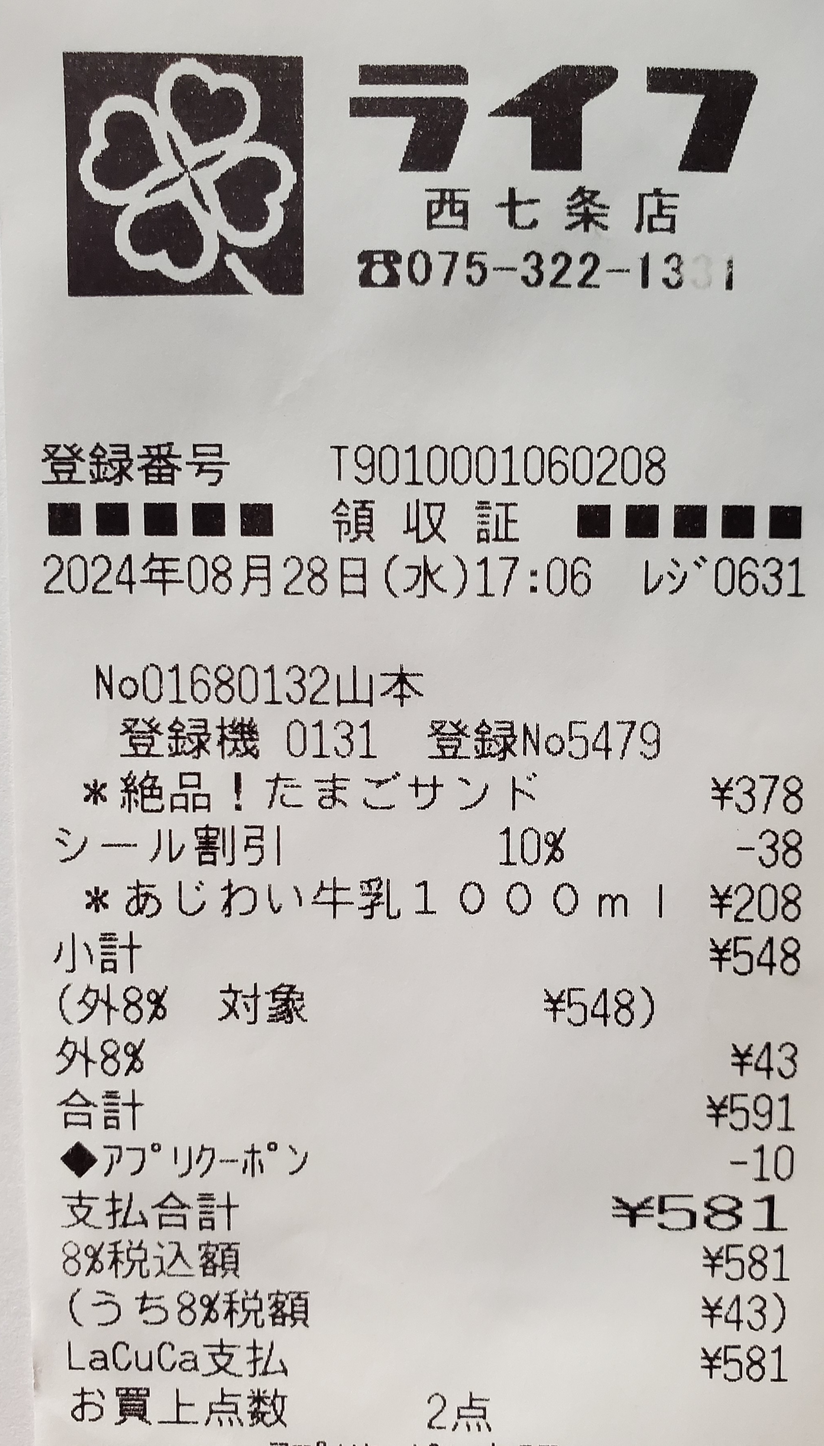Date: (34, 545, 379, 602)
Shopname: (336, 42, 782, 185)
Telnum: (402, 242, 756, 308)
Totalpay: (55, 1180, 803, 1240)
